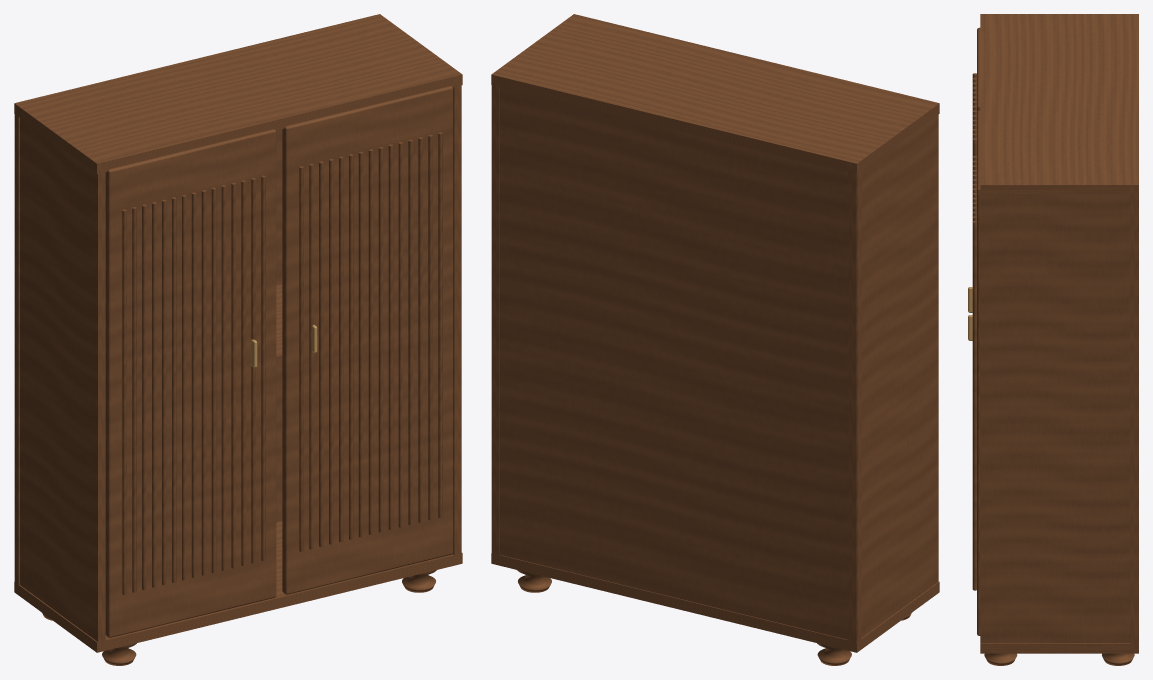
The model's file is wardrobe_arcade-56d1678ba968.glb.
3 views of the same model, side by side, from view 1: azimuth 30°, elevation 25°; view 2: azimuth 150°, elevation 25°; view 3: azimuth 270°, elevation 25° (orthographic). The views are drawn at different scales.
Visible parts, largest first — view 1: surface_walnut; view 2: surface_walnut; view 3: surface_walnut.
Boxes of the visible parts, left/top/right/bottom form: surface_walnut: left=14, top=14, right=462, bottom=665; surface_walnut: left=491, top=14, right=939, bottom=665; surface_walnut: left=972, top=14, right=1138, bottom=665.
Size of the model in its own units: 1.43 by 1.91 by 0.6026.
2 materials, 1 textured.
